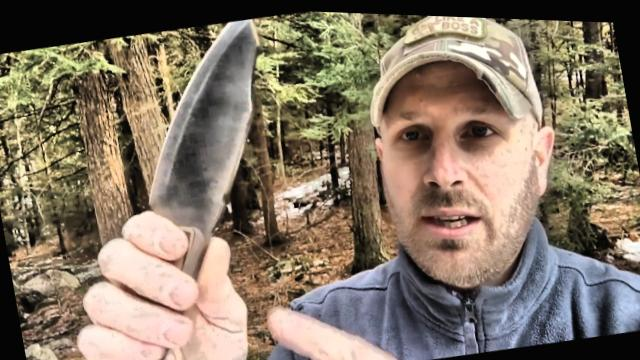knife: (56, 9, 307, 312)
